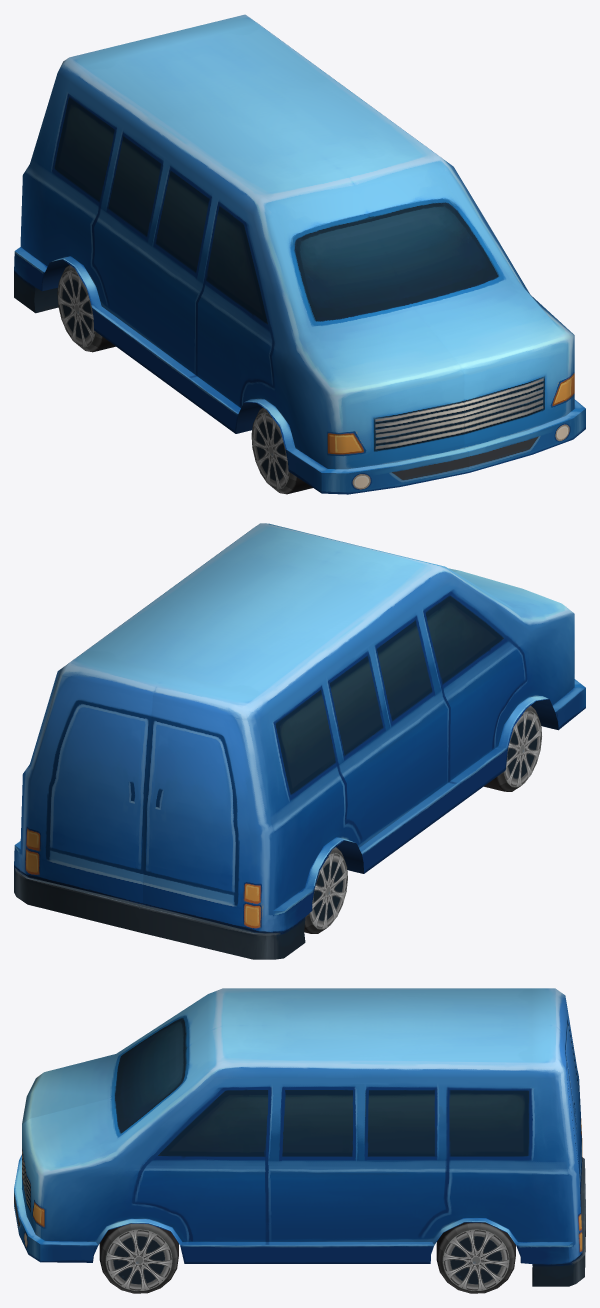
The model's file is model_Mcar7.FBX.
3 views of the same model, one above another, from view 1: azimuth 30°, elevation 25°; view 2: azimuth 150°, elevation 25°; view 3: azimuth 270°, elevation 25° (orthographic). The views are drawn at different scales.
Visible parts, largest first — view 1: model_Mcar7; view 2: model_Mcar7; view 3: model_Mcar7.
Boxes of the visible parts, x1,y1,x2,y2 form: model_Mcar7: (14,14,585,494); model_Mcar7: (14,523,585,959); model_Mcar7: (14,988,585,1293).
Size of the model in its own units: 116 by 103 by 245.
1 material, 1 textured.
